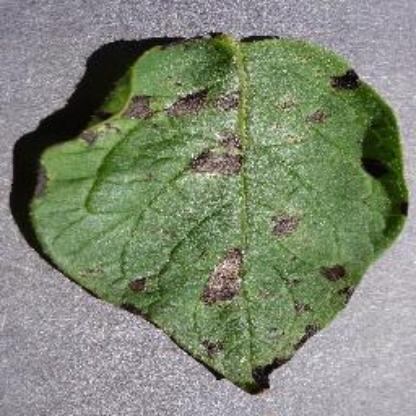Early-Blight: (23, 24, 415, 396)
